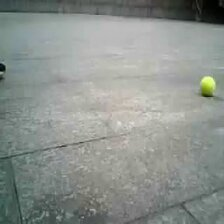tennis: (200, 77, 215, 95)
